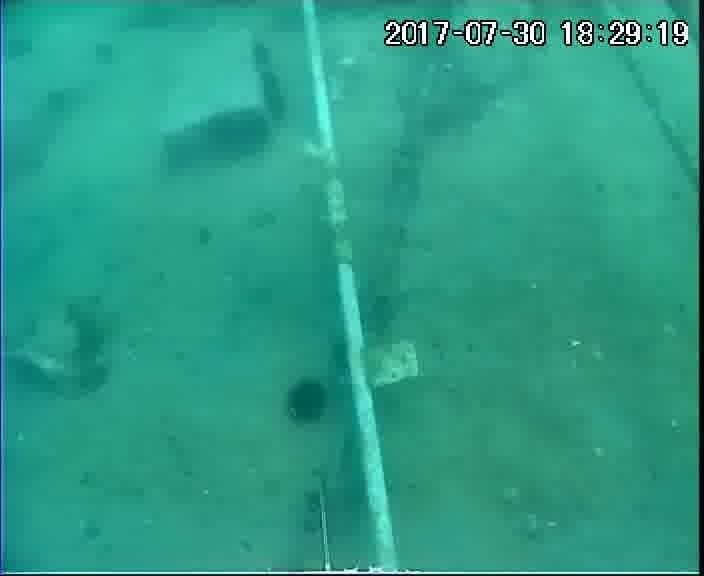echinus: (280, 374, 334, 430)
